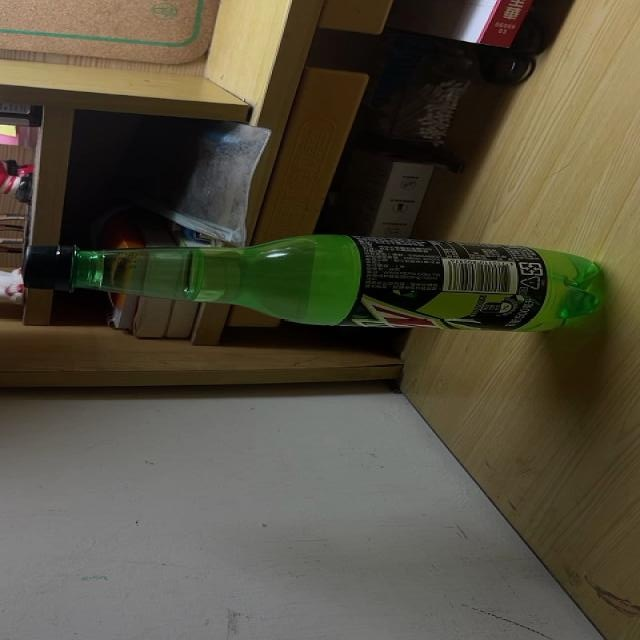Mountain-Dew: (18, 232, 611, 331)
